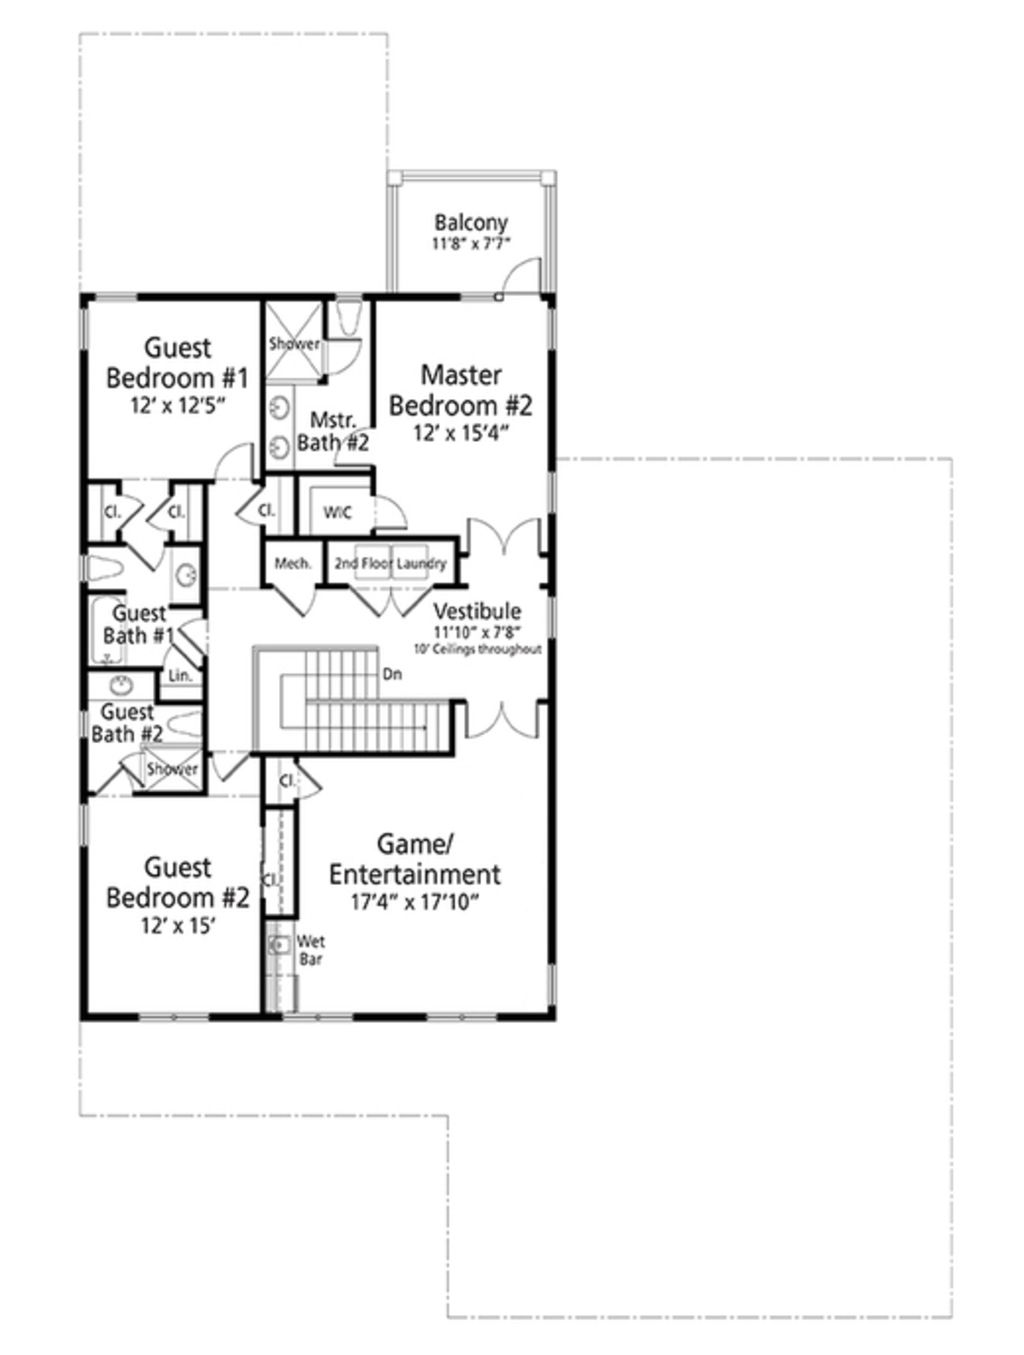door: (457, 694, 546, 745), (460, 512, 544, 558), (490, 248, 544, 302), (346, 584, 427, 616), (207, 439, 255, 484), (265, 583, 321, 618), (321, 336, 362, 373), (373, 493, 410, 532)
large_sink: (79, 551, 127, 586), (330, 297, 371, 338), (159, 707, 207, 738)
small_sink: (265, 386, 298, 471), (86, 668, 155, 703), (169, 551, 205, 603)
stairs: (240, 641, 452, 755)
windows: (413, 1005, 500, 1031), (137, 1010, 221, 1028), (85, 287, 140, 309)
